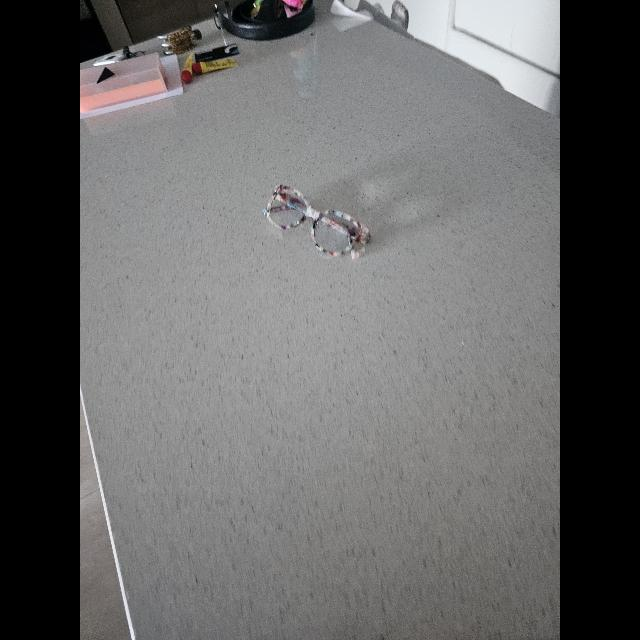glasses: (264, 185, 370, 259)
